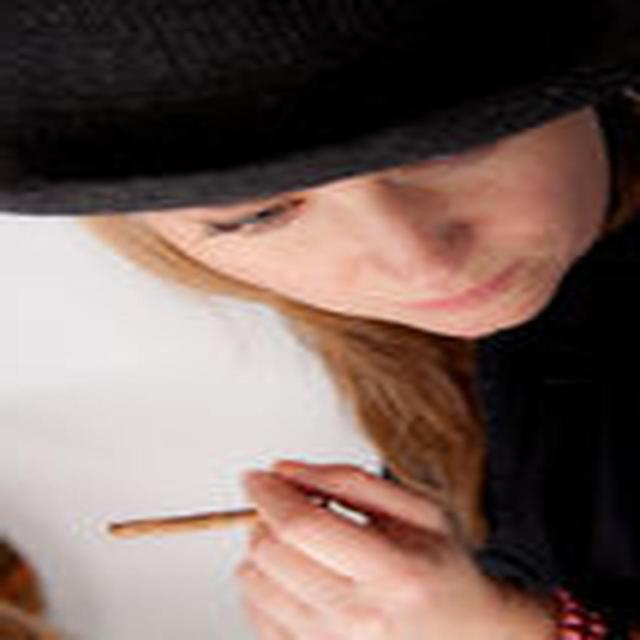smoking: (70, 12, 626, 638)
